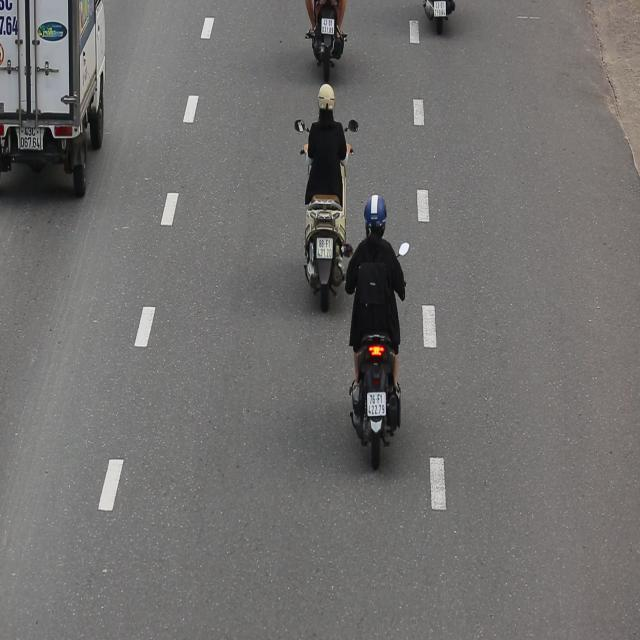motorbike: (347, 187, 409, 472), (295, 78, 356, 304)
